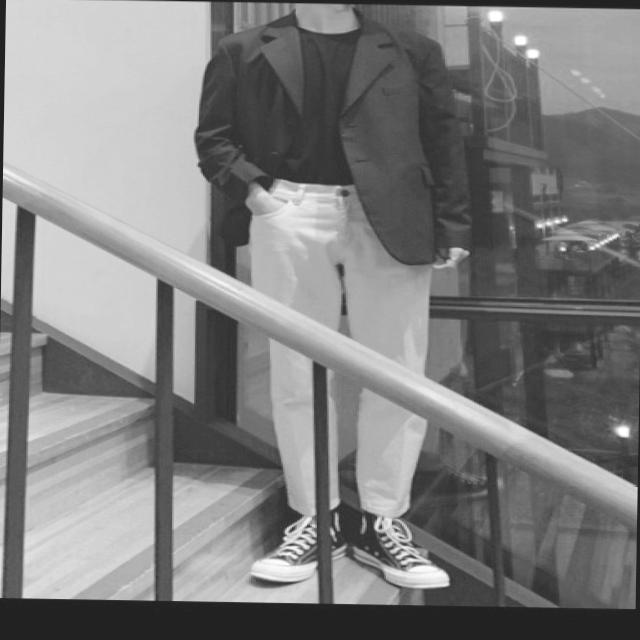blazer: (194, 12, 478, 272)
cottonpants: (252, 168, 434, 514)
